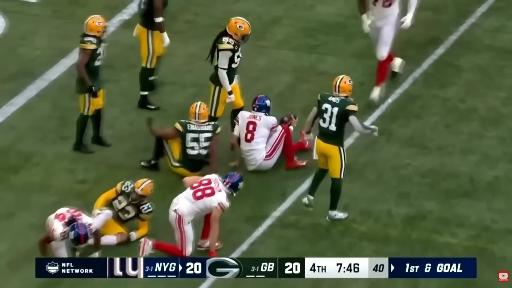Helmet: (226, 17, 251, 43), (84, 15, 106, 37), (223, 172, 243, 195), (70, 222, 89, 246), (333, 75, 352, 96), (252, 95, 271, 115), (190, 102, 209, 122), (135, 179, 153, 196)
Jersey: (171, 174, 229, 220), (234, 111, 278, 166), (175, 120, 221, 170), (318, 93, 358, 146), (109, 181, 153, 223), (46, 208, 93, 241), (210, 37, 241, 86), (79, 34, 106, 90), (369, 0, 399, 21), (139, 0, 157, 30)
Player: (302, 75, 377, 220), (140, 173, 243, 256), (141, 102, 221, 176), (359, 0, 417, 102), (232, 95, 310, 170), (73, 15, 110, 153), (207, 17, 251, 131), (93, 179, 153, 245), (134, 0, 169, 110), (39, 208, 103, 257)
